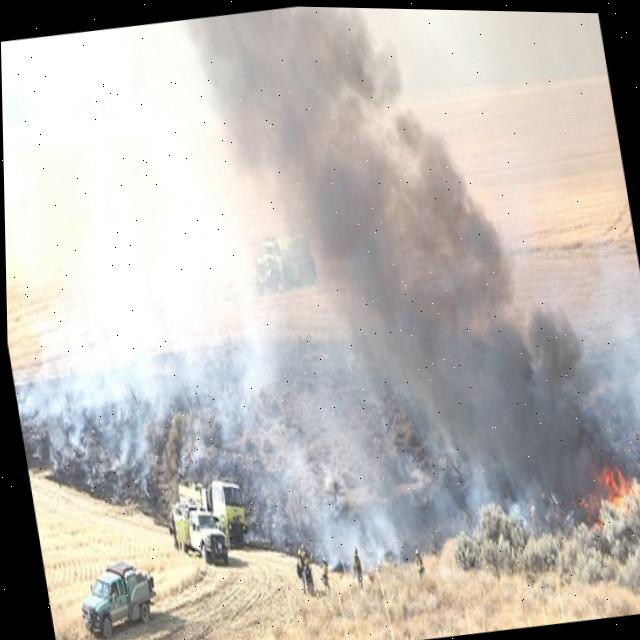fire: (599, 459, 636, 517)
smoke: (1, 5, 640, 570)
